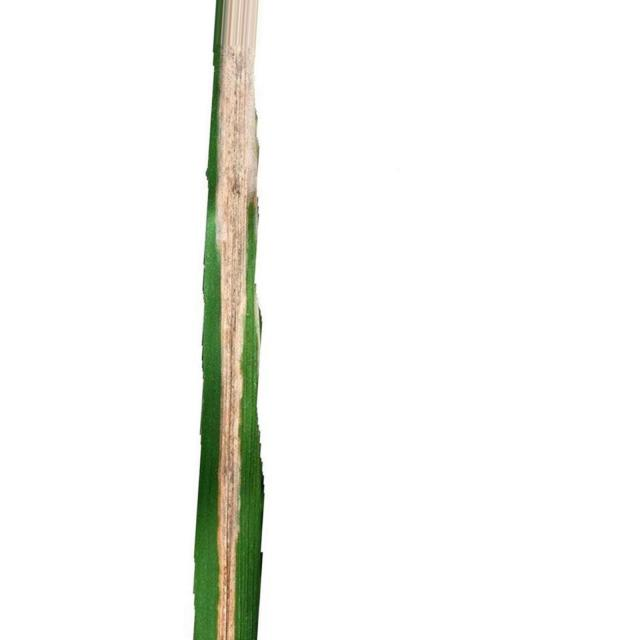Bacterial_Leaf_Blight: (216, 0, 258, 639)
